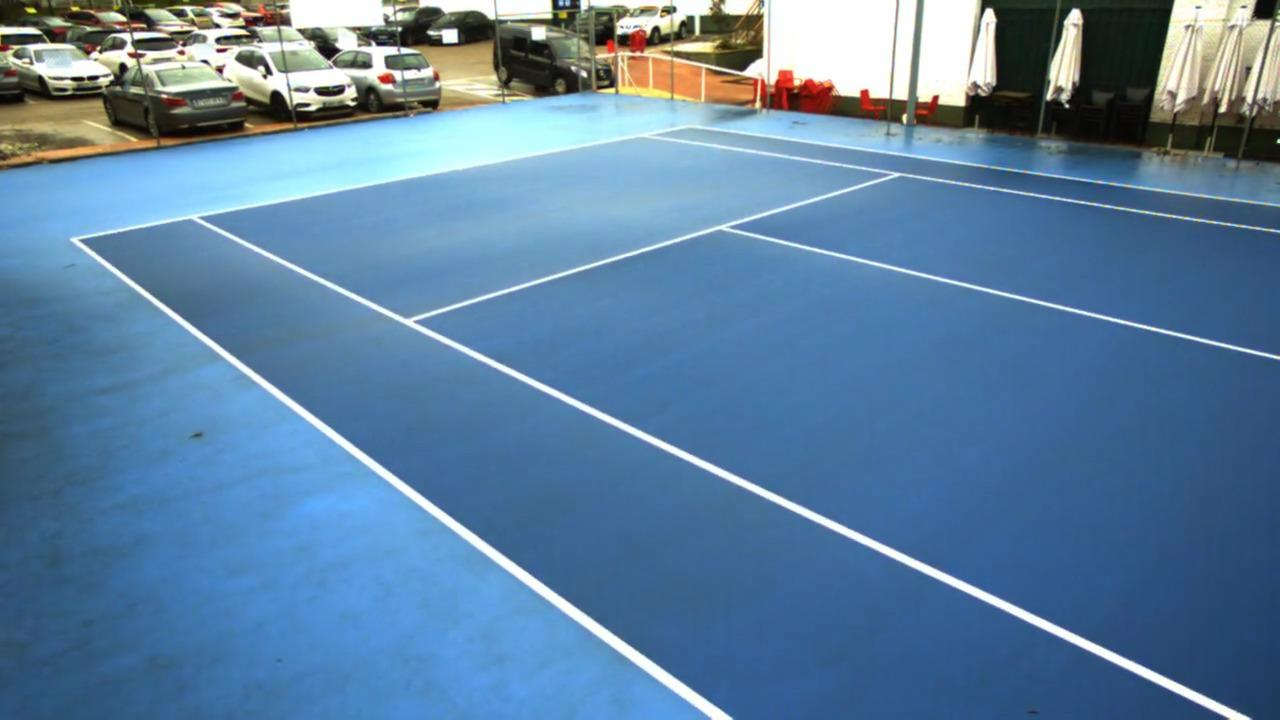cancha_tenis: (191, 133, 1280, 720)
point_f1: (183, 200, 206, 226)
point_f2: (635, 127, 659, 143)
point_i1: (388, 306, 423, 334)
point_i2: (875, 165, 908, 187)
point_ic1: (708, 212, 742, 239)
